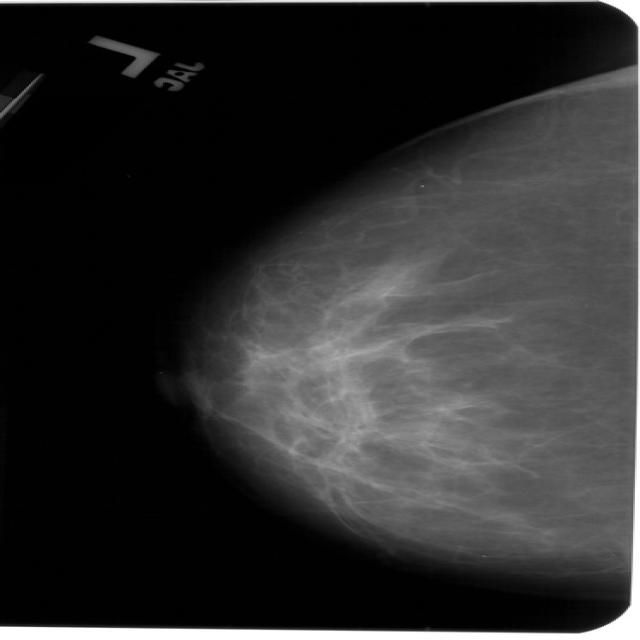tumour: (331, 420, 371, 452)
